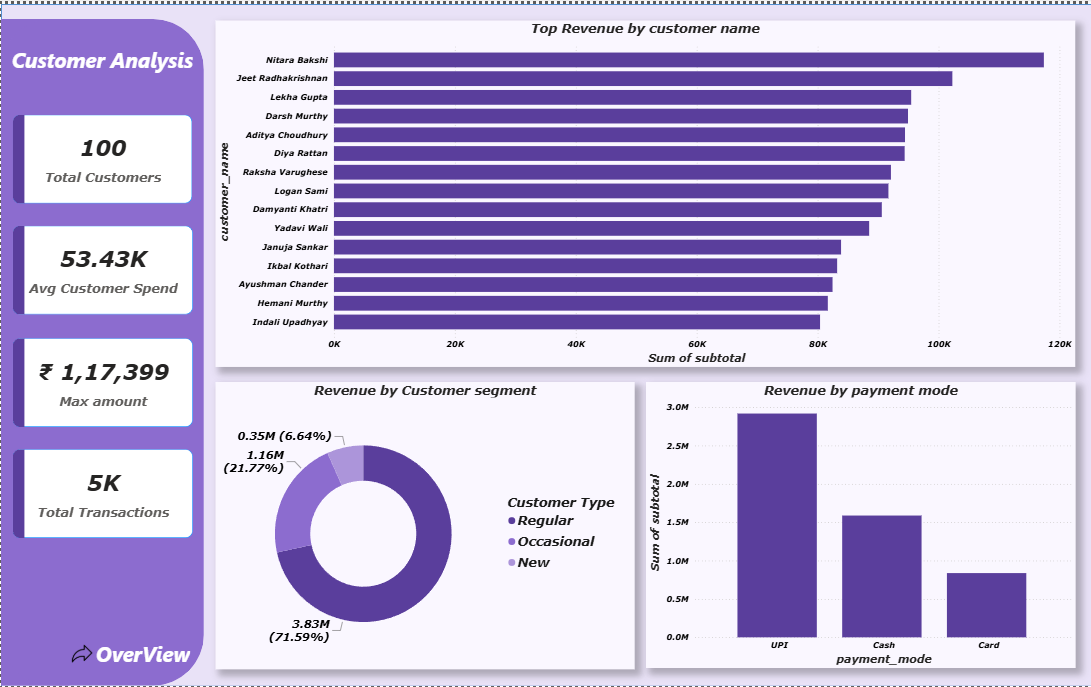

What the dashboard file says about the page in this screenshot:
{"tool":"powerbi","page":{"name":"Customer Analysis","canvas":[1600,1000],"ordinal":2},"visuals":[{"type":"shape","box":[0,0,1599.9,1000.8],"z":0},{"type":"shape","box":[0,22.5,100,977.5],"z":1000},{"type":"shape","box":[0,22.5,297.5,977.5],"z":2000},{"type":"donutChart","title":"Revenue by Customer segment","fields":{"Category":["grocery_store customers.customer_segment"],"Y":["Sum(grocery_store transaction_items.subtotal)"]},"box":[315.1,554.7,614.7,421.6],"z":3000},{"type":"cardVisual","fields":{"Data":["grocery_store customers.Total Customers"]},"box":[0,144.2,297.3,164.2],"z":4000},{"type":"cardVisual","title":"Max amount","fields":{"Data":["Date.Max amount"]},"box":[0,472,298,164],"z":5000},{"type":"cardVisual","fields":{"Data":["Date.Average Customer Spend"]},"box":[0,308,298,164],"z":6000},{"type":"actionButton","box":[0,42.2,297.3,79.9],"z":7000},{"type":"cardVisual","title":"Max amount","fields":{"Data":["Date.Total Transactions"]},"box":[0,636,298,164],"z":8000},{"type":"clusteredBarChart","title":"Top Revenue by customer name","fields":{"Category":["grocery_store customers.customer_name"],"Y":["Sum(grocery_store transaction_items.subtotal)"]},"box":[315.1,24.4,1260.4,508.1],"z":9000},{"type":"columnChart","title":"Revenue by payment mode","fields":{"Category":["grocery_store transactions.payment_mode"],"Y":["Sum(grocery_store transaction_items.subtotal)"]},"box":[945.3,554.7,630.2,419.4],"z":10000},{"type":"actionButton","box":[60,912.5,297.5,80],"z":11000},{"type":"image","box":[72.5,927.5,92.5,48.8],"z":12000}]}

Visuals, with their boxes in screenshot pixels (x1, y1, x2, y2), scaled from the page's 1600x1000 canvas onto the 1091x687 screenshot:
shape: bbox(0, 0, 1090, 686)
shape: bbox(0, 15, 68, 686)
shape: bbox(0, 15, 203, 686)
"Revenue by Customer segment" donutChart: bbox(215, 381, 634, 671)
cardVisual - grocery_store customers.Total Customers: bbox(0, 99, 203, 212)
"Max amount" cardVisual: bbox(0, 324, 203, 437)
cardVisual - Date.Average Customer Spend: bbox(0, 212, 203, 324)
actionButton: bbox(0, 29, 203, 84)
"Max amount" cardVisual: bbox(0, 437, 203, 550)
"Top Revenue by customer name" clusteredBarChart: bbox(215, 17, 1074, 366)
"Revenue by payment mode" columnChart: bbox(645, 381, 1074, 669)
actionButton: bbox(41, 627, 244, 682)
image: bbox(49, 637, 113, 671)
